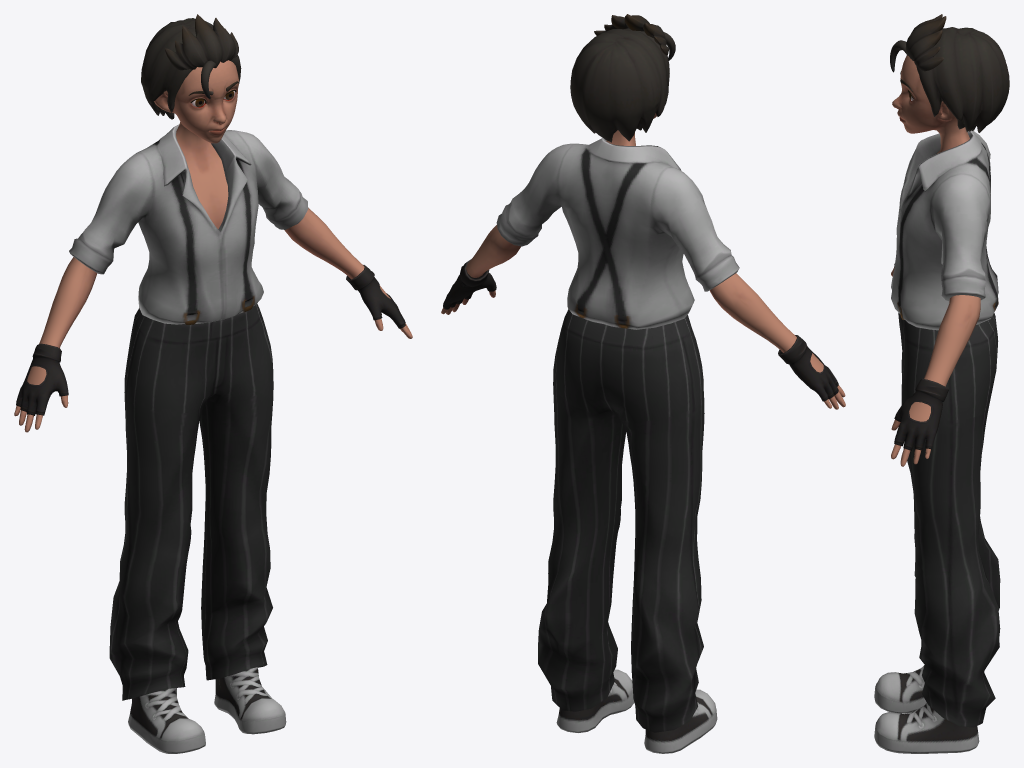
File: StaffKaya_Mesh.obj
3 renders of one model, left to right at view 1: azimuth 30°, elevation 25°; view 2: azimuth 150°, elevation 25°; view 3: azimuth 270°, elevation 25°, orthographic.
Visible parts, largest first — view 1: StaffKaya_Mesh_0; view 2: StaffKaya_Mesh_0; view 3: StaffKaya_Mesh_0.
Part boxes in pixels (<box>): StaffKaya_Mesh_0: <box>14,14,412,753</box>; StaffKaya_Mesh_0: <box>441,14,845,753</box>; StaffKaya_Mesh_0: <box>874,14,1009,753</box>.
Size of the model in its own units: 1.06 by 1.84 by 0.3191.
Materials: 1 (1 with a texture image).
